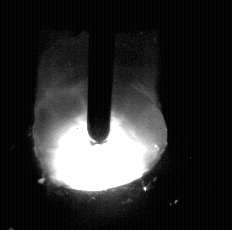arame: (88, 0, 112, 144)
poca: (34, 0, 166, 230)
